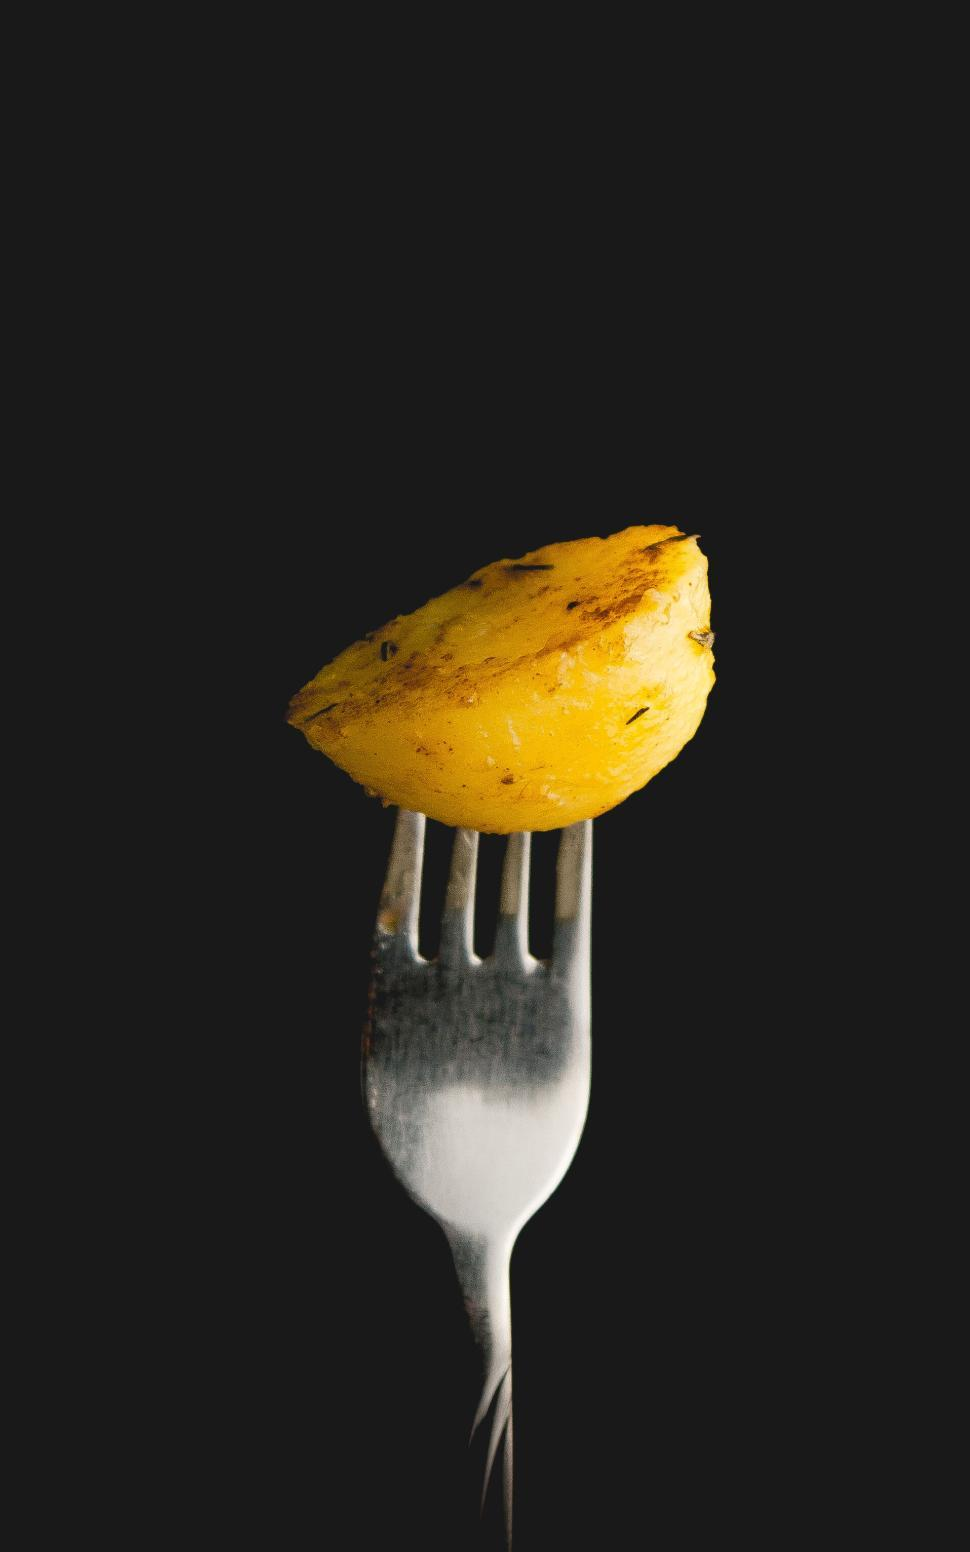potato: (294, 486, 729, 847)
